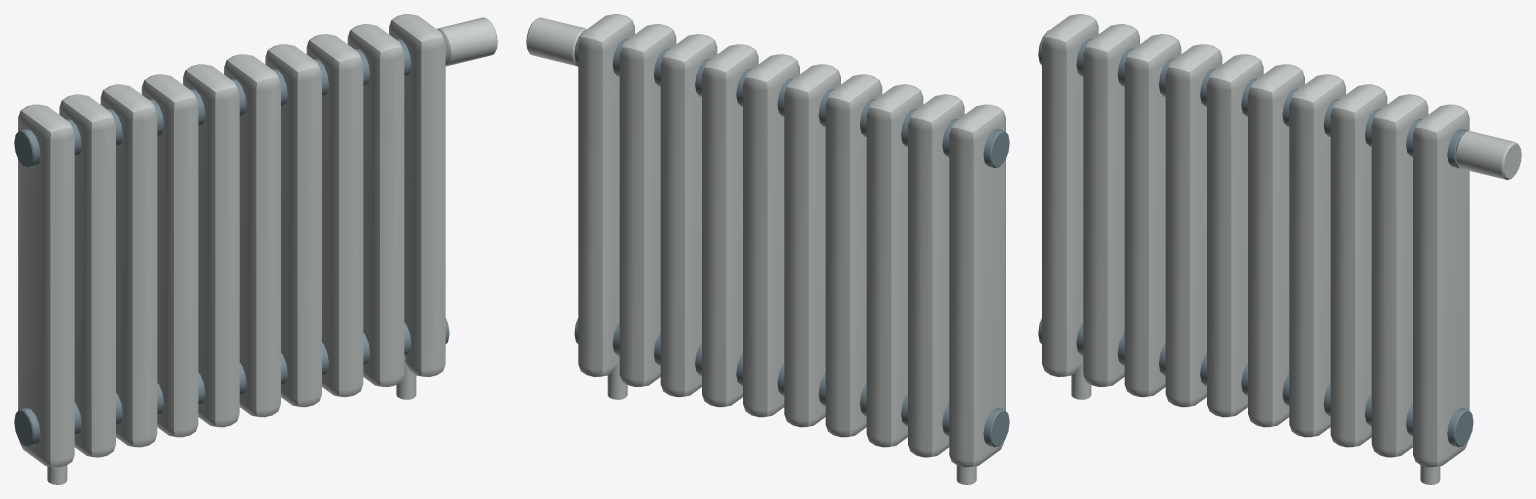
Rendered from radiator.glb.
3 renders of one model, left to right at view 1: azimuth 30°, elevation 25°; view 2: azimuth 150°, elevation 25°; view 3: azimuth 330°, elevation 25°, orthographic.
Visible parts, largest first — view 1: heating_fin, heating_fin.007, heating_fin.002, heating_fin.003, heating_fin.008, heating_fin.004, heating_fin.005, heating_fin.001, heating_fin.009, heating_fin.006, horizontal_manifold.001, horizontal_manifold (+2 smaller); view 2: heating_fin, heating_fin.007, heating_fin.002, heating_fin.003, heating_fin.008, heating_fin.004, heating_fin.005, heating_fin.001, heating_fin.009, heating_fin.006, horizontal_manifold.001, horizontal_manifold (+2 smaller); view 3: heating_fin.009, heating_fin.003, heating_fin.008, heating_fin.007, heating_fin.002, heating_fin.006, heating_fin.001, heating_fin.005, heating_fin, heating_fin.004, horizontal_manifold.001, horizontal_manifold (+2 smaller).
Boxes of the visible parts, x1,y1,x2,y2 form: heating_fin: (18, 104, 74, 467); heating_fin.007: (306, 34, 363, 397); heating_fin.002: (100, 84, 157, 447); heating_fin.003: (141, 74, 198, 437); heating_fin.008: (347, 24, 404, 386); heating_fin.004: (183, 64, 239, 427); heating_fin.005: (224, 54, 280, 417); heating_fin.001: (59, 94, 115, 457); heating_fin.009: (389, 14, 445, 376); heating_fin.006: (265, 44, 321, 407); horizontal_manifold.001: (14, 30, 449, 168); horizontal_manifold: (14, 318, 449, 447); heating_fin: (949, 104, 1005, 467); heating_fin.007: (660, 34, 717, 397); heating_fin.002: (866, 84, 923, 447); heating_fin.003: (825, 74, 882, 437); heating_fin.008: (619, 24, 676, 386); heating_fin.004: (784, 64, 840, 427); heating_fin.005: (743, 54, 799, 417); heating_fin.001: (908, 94, 964, 457); heating_fin.009: (578, 14, 634, 376); heating_fin.006: (702, 44, 758, 407); horizontal_manifold.001: (574, 30, 1009, 168); horizontal_manifold: (574, 318, 1009, 447); heating_fin.009: (1413, 104, 1469, 467); heating_fin.003: (1165, 44, 1222, 407); heating_fin.008: (1371, 94, 1428, 457); heating_fin.007: (1330, 84, 1387, 447); heating_fin.002: (1124, 34, 1181, 397); heating_fin.006: (1289, 74, 1345, 437); heating_fin.001: (1083, 24, 1139, 387); heating_fin.005: (1248, 64, 1304, 427); heating_fin: (1042, 14, 1098, 376); heating_fin.004: (1207, 54, 1263, 417); horizontal_manifold.001: (1038, 30, 1468, 168); horizontal_manifold: (1038, 318, 1473, 447).
Bounding box in the file's own units: 0.96 × 0.73 × 0.13.
